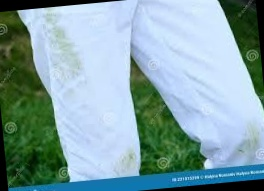earth: (50, 30, 83, 86), (115, 149, 138, 172), (241, 126, 261, 151), (44, 7, 62, 32)
